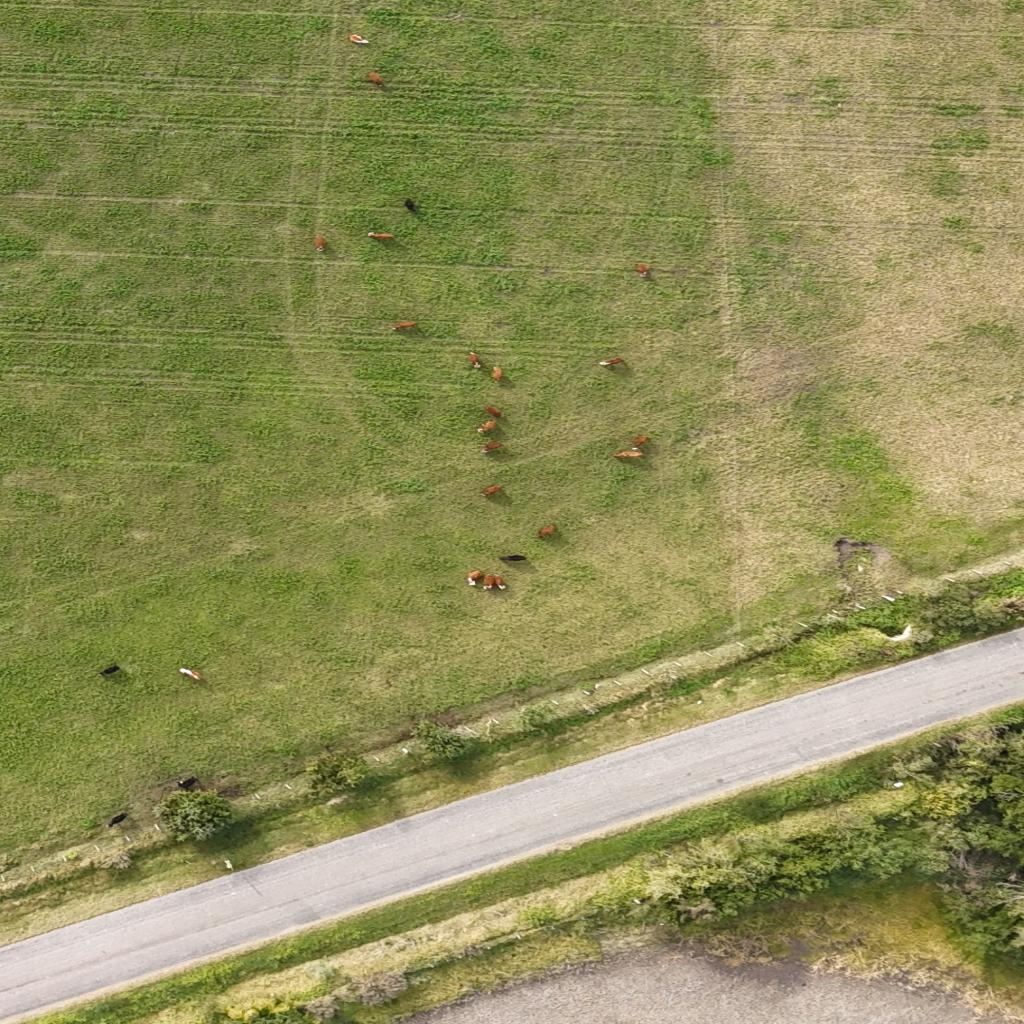cow: (179, 668, 203, 682), (108, 812, 128, 828), (613, 450, 644, 460), (466, 570, 485, 586), (178, 776, 198, 791), (597, 357, 624, 368), (635, 265, 653, 281), (494, 573, 510, 591), (630, 436, 650, 450), (477, 420, 497, 434), (98, 664, 121, 676), (366, 72, 384, 87), (467, 352, 482, 370), (348, 34, 372, 45), (393, 322, 419, 332), (482, 574, 497, 591), (480, 442, 503, 453), (538, 524, 557, 537), (480, 485, 500, 497), (484, 406, 502, 419), (500, 554, 528, 562), (367, 232, 394, 240), (490, 366, 502, 384), (314, 236, 326, 252), (404, 199, 418, 212)
